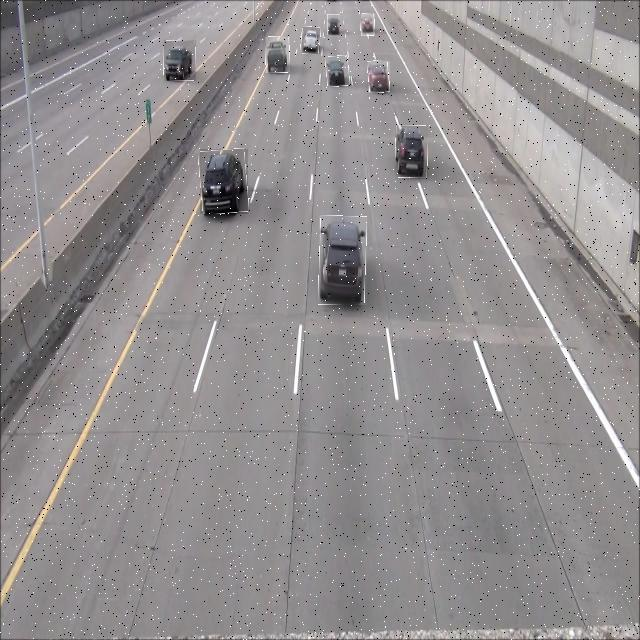Car: (319, 216, 367, 305), (200, 149, 248, 214), (395, 125, 428, 178), (326, 56, 350, 86), (368, 61, 390, 93), (302, 27, 320, 54), (361, 14, 375, 36), (327, 14, 340, 35)
Truck: (164, 40, 196, 81), (266, 37, 290, 73)
